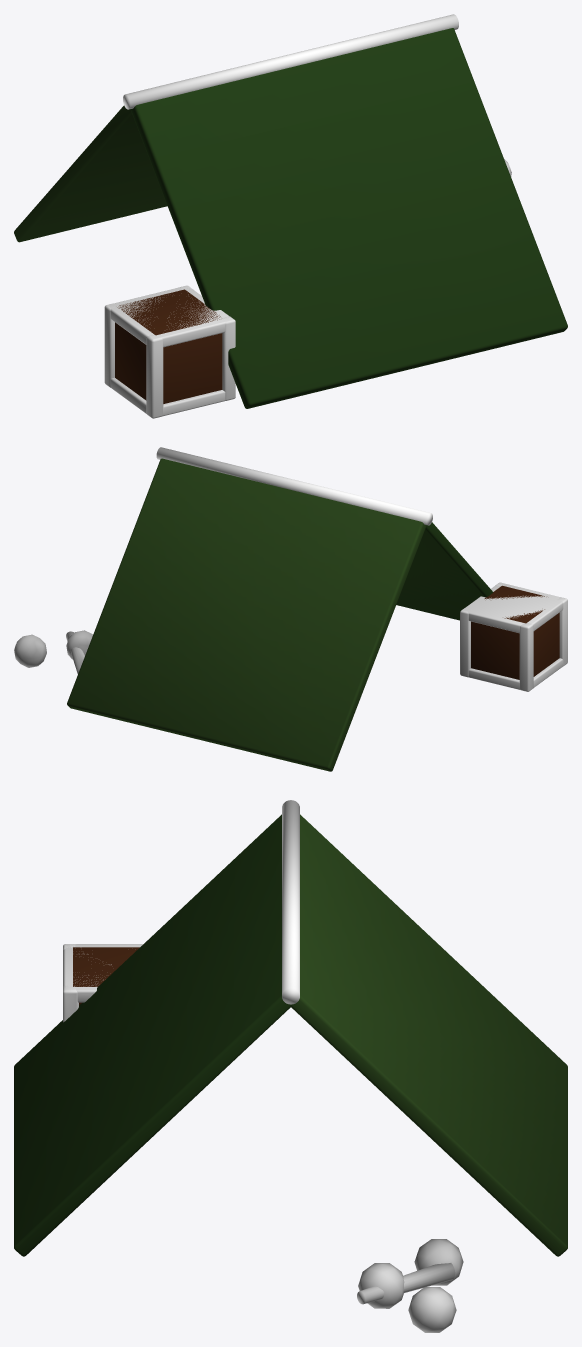
Rendered from abandoned-campsite.obj.
3 renders of one model, top to bottom at view 1: azimuth 30°, elevation 25°; view 2: azimuth 150°, elevation 25°; view 3: azimuth 270°, elevation 25°, orthographic. The views are drawn at different scales.
Visible parts, largest first — view 1: abandoned-campsite; view 2: abandoned-campsite; view 3: abandoned-campsite.
Part boxes in pixels (bbox=[...]): abandoned-campsite: bbox=[14, 14, 567, 418]; abandoned-campsite: bbox=[14, 447, 567, 771]; abandoned-campsite: bbox=[14, 800, 567, 1332].
Bounding box in the file's own units: 3.05 × 1.4 × 2.43.
